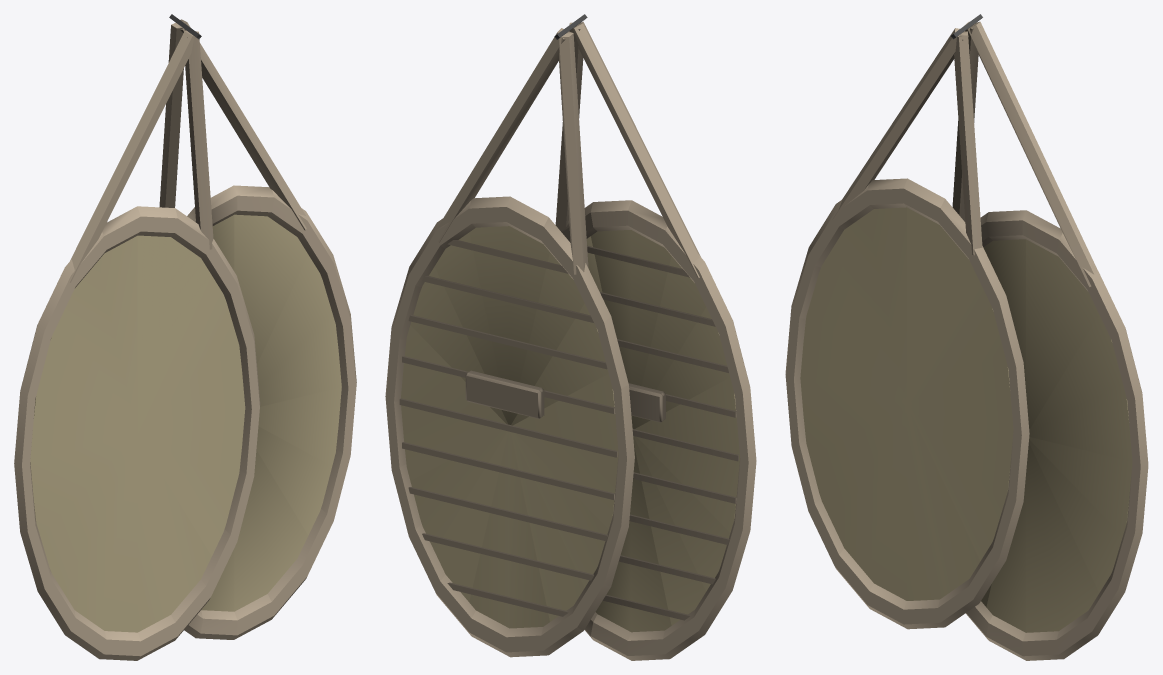
Rendered from snowshoes.glb.
The picture shows the model from 3 angles, left to right: view 1: azimuth 30°, elevation 25°; view 2: azimuth 150°, elevation 25°; view 3: azimuth 330°, elevation 25°; orthographic projection. The views are drawn at different scales.
Visible parts, largest first — view 1: static; view 2: static; view 3: static.
Boxes of the visible parts, bbox=[...] form: static: bbox=[14, 14, 356, 660]; static: bbox=[385, 14, 756, 660]; static: bbox=[785, 14, 1148, 660].
Bounding box in the file's own units: 0.524 × 0.8952 × 0.07.
